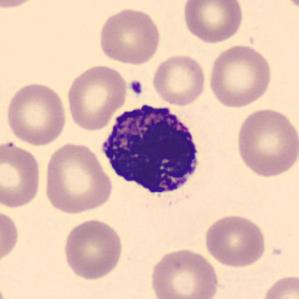Basophil: (96, 96, 206, 204)
Platelets: (128, 79, 144, 96)
RBC: (42, 139, 115, 215), (234, 105, 298, 180), (64, 62, 128, 132), (207, 43, 274, 108), (4, 80, 68, 147), (61, 216, 124, 282), (96, 5, 163, 66), (148, 246, 222, 299), (202, 213, 268, 268), (150, 53, 208, 107), (0, 140, 43, 209), (180, 0, 246, 44), (0, 207, 21, 268), (259, 272, 298, 299), (0, 0, 42, 10), (279, 0, 299, 15), (0, 278, 8, 298)
